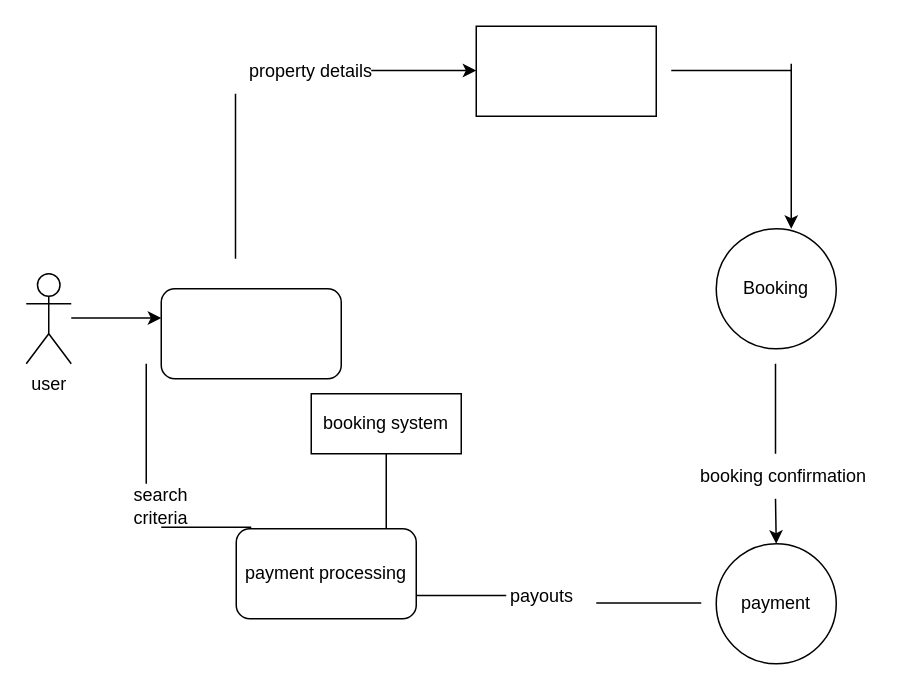
Image size: 908x690. Some labels were removed from this diagram. The box of each missing label's shape, as (x1, y1, x2, y2) in pixels:
property management: (475, 25, 656, 116)
user management: (160, 287, 341, 379)
